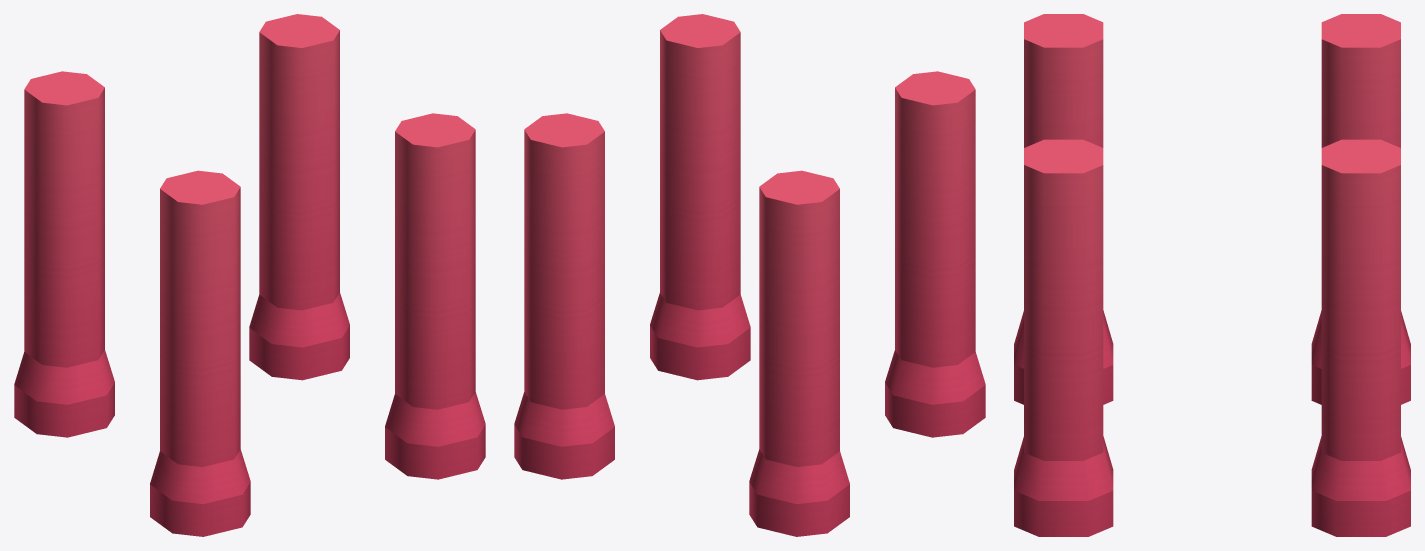
The model's file is supports-bottom.fbx.
3 views of the same model, side by side, from view 1: azimuth 30°, elevation 25°; view 2: azimuth 150°, elevation 25°; view 3: azimuth 270°, elevation 25° (orthographic). The views are drawn at different scales.
Visible parts, largest first — view 1: supports_bottom; view 2: supports_bottom; view 3: supports_bottom.
Part boxes in pixels (bbox=[...]): supports_bottom: bbox=[14, 14, 485, 536]; supports_bottom: bbox=[514, 14, 985, 536]; supports_bottom: bbox=[1014, 14, 1410, 536].
Bounding box in the file's own units: 100 × 100 × 100.
